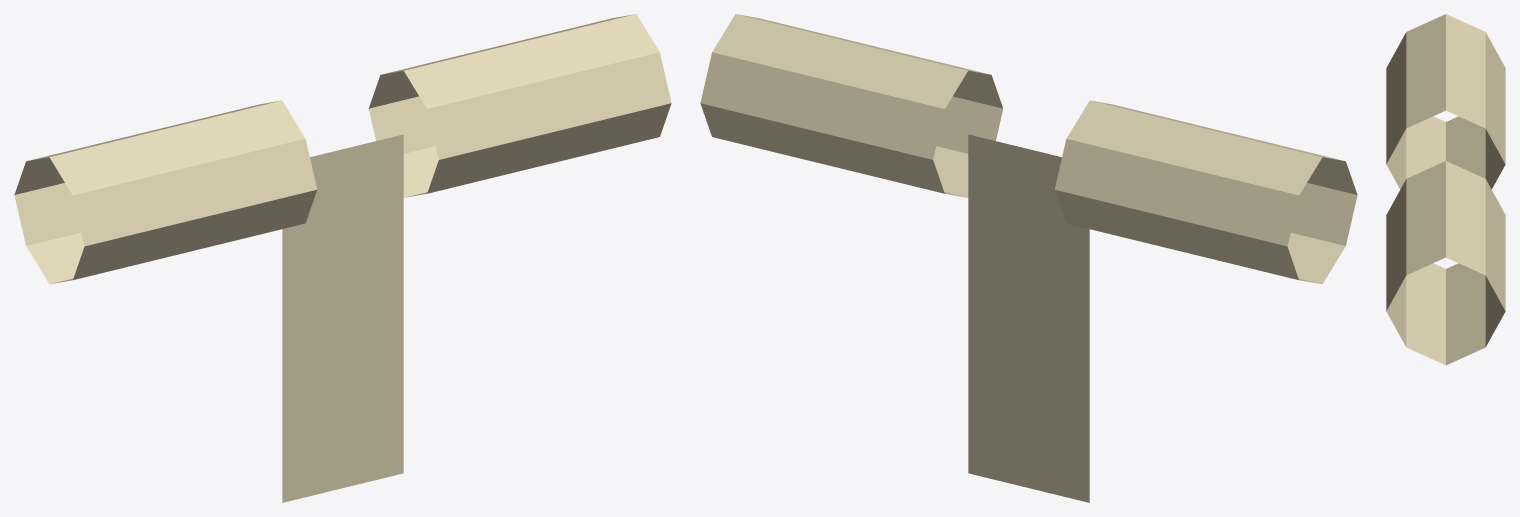
The model's file is scroll.obj.
3 renders of one model, left to right at view 1: azimuth 30°, elevation 25°; view 2: azimuth 150°, elevation 25°; view 3: azimuth 270°, elevation 25°, orthographic. The views are drawn at different scales.
Parts seen in each view (by area): view 1: deploy_scroll; view 2: deploy_scroll; view 3: deploy_scroll.
Boxes of the visible parts, x1=… form: deploy_scroll: x1=14, y1=14, x2=671, y2=502; deploy_scroll: x1=700, y1=14, x2=1357, y2=502; deploy_scroll: x1=1386, y1=14, x2=1505, y2=365.
Bounding box in the file's own units: 1.16 × 0.76 × 0.24.
